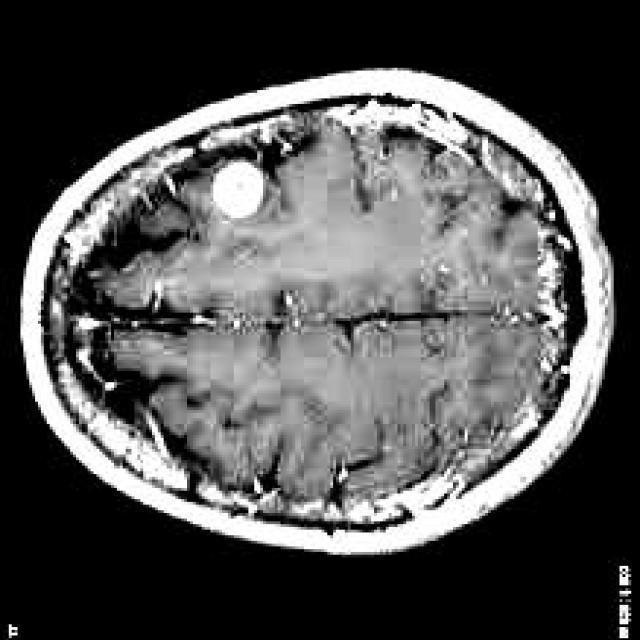tumor: (213, 156, 266, 220)
